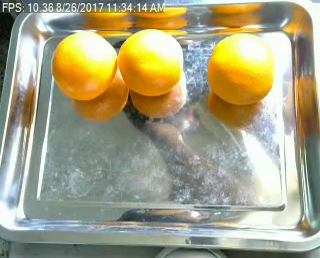Orange: (207, 33, 273, 105), (52, 31, 118, 100), (119, 27, 184, 97)
